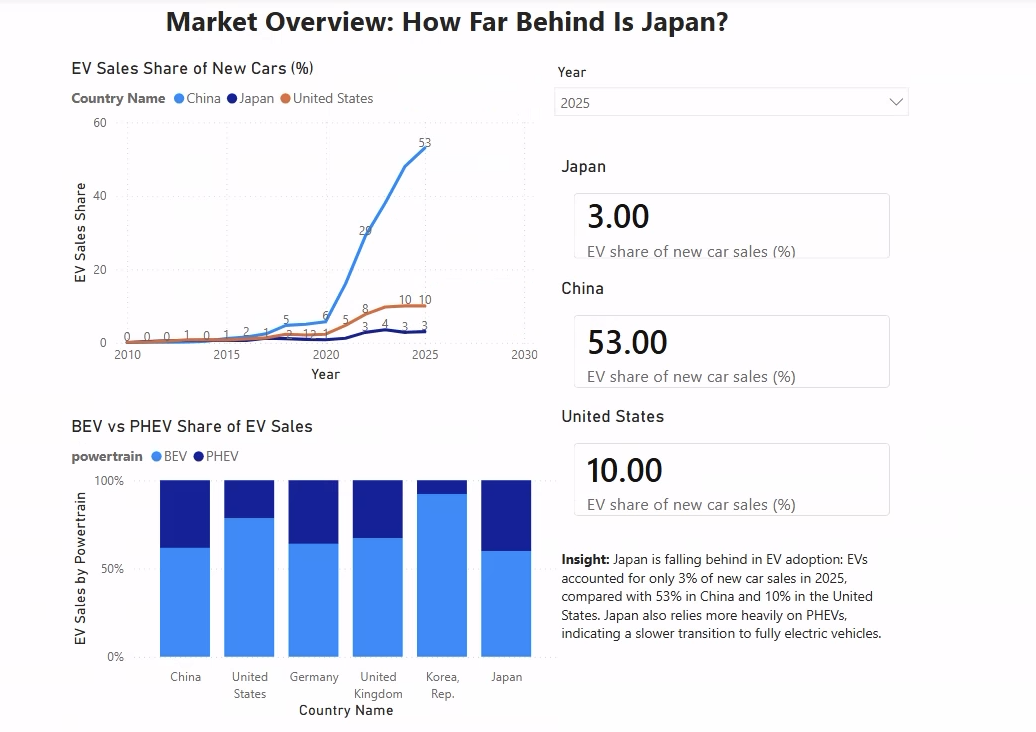

What the dashboard file says about the page in this screenshot:
{"tool":"powerbi","page":{"name":"Market Overview","canvas":[1280,720],"ordinal":1},"visuals":[{"type":"lineChart","title":"EV Sales Share of New Cars (%)","fields":{"Category":["Dim_Year.Year"],"Y":["Fact_EV.EV Sales Share"],"Series":["Dim_Country.Country Name"]},"box":[242,59.4,463.8,320.3],"z":0},{"type":"hundredPercentStackedColumnChart","title":"BEV vs PHEV Share of EV Sales ","fields":{"Category":["Dim_Country.Country Name"],"Y":["Fact_EV.EV Sales by Powertrain"],"Series":["Fact_EV.powertrain"]},"box":[242,408.7,484.1,298.6],"z":1000},{"type":"textbox","box":[333.3,0,658,59.4],"z":2000},{"type":"slicer","fields":{"Values":["Dim_Year.Year"]},"box":[705.8,59.4,365.2,117.4],"z":3000},{"type":"cardVisual","title":"Japan","fields":{"Data":["Fact_EV.EV Sales Share"]},"box":[718.8,156.5,342,117.4],"z":4000},{"type":"cardVisual","title":"China","fields":{"Data":["Fact_EV.EV Sales Share"]},"box":[718.8,273.9,342,124.6],"z":5000},{"type":"cardVisual","title":"United States","fields":{"Data":["Fact_EV.EV Sales Share"]},"box":[718.8,398.6,342,124.6],"z":6000},{"type":"textbox","box":[718.8,533.3,342,173.9],"z":7000}]}

Visuals, with their boxes on the page's 1280x720 design canvas (x1, y1, x2, y2). These are canvas units, not pixel positions in the 1036x732 screenshot, which may show the page scaled, cropped or inside an application window:
"EV Sales Share of New Cars (%)" lineChart: bbox(242, 59, 706, 380)
"BEV vs PHEV Share of EV Sales " hundredPercentStackedColumnChart: bbox(242, 409, 726, 707)
textbox: bbox(333, 0, 991, 59)
slicer - Dim_Year.Year: bbox(706, 59, 1071, 177)
"Japan" cardVisual: bbox(719, 156, 1061, 274)
"China" cardVisual: bbox(719, 274, 1061, 398)
"United States" cardVisual: bbox(719, 399, 1061, 523)
textbox: bbox(719, 533, 1061, 707)
